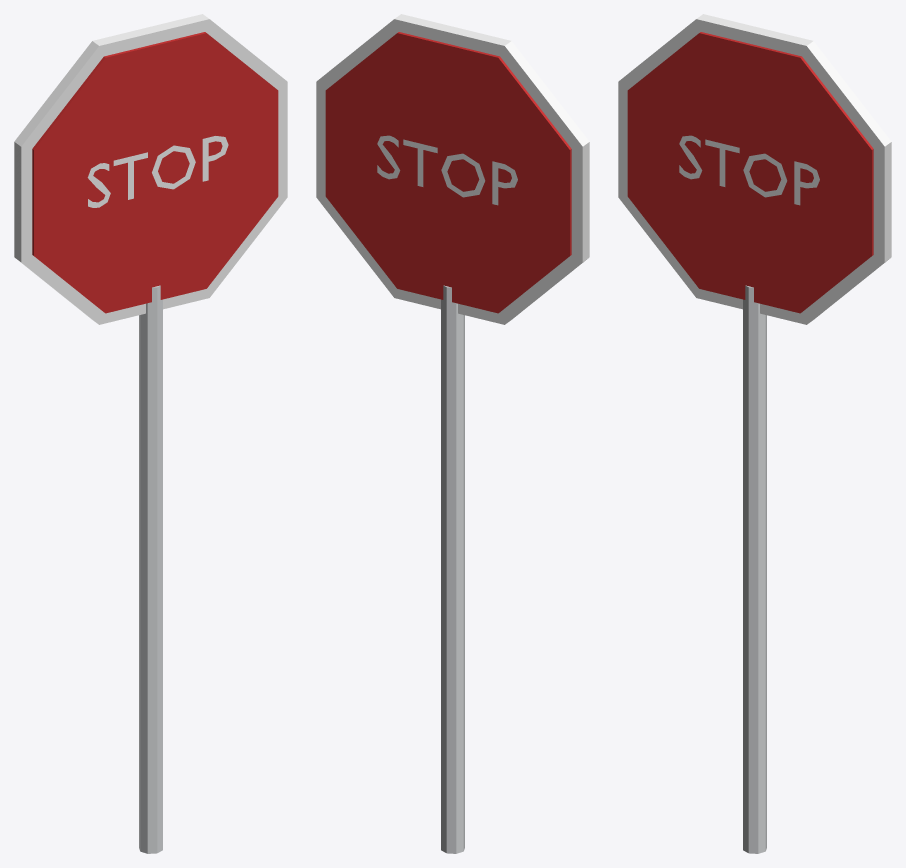
Rendered from roadevents_stop_paddle.glb.
3 renders of one model, left to right at view 1: azimuth 30°, elevation 25°; view 2: azimuth 150°, elevation 25°; view 3: azimuth 330°, elevation 25°, orthographic.
Parts seen in each view (by area): view 1: StopPaddle; view 2: StopPaddle; view 3: StopPaddle.
Boxes of the visible parts, <box> form: StopPaddle: <box>14,14,287,853</box>; StopPaddle: <box>316,14,589,853</box>; StopPaddle: <box>618,14,891,853</box>.
Bounding box in the file's own units: 0.4435 × 1.3 × 0.036.
